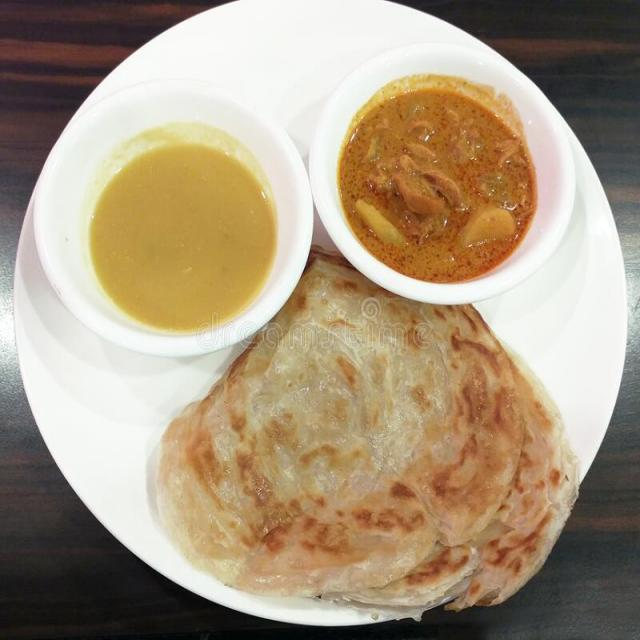Paratha: (130, 260, 572, 625)
